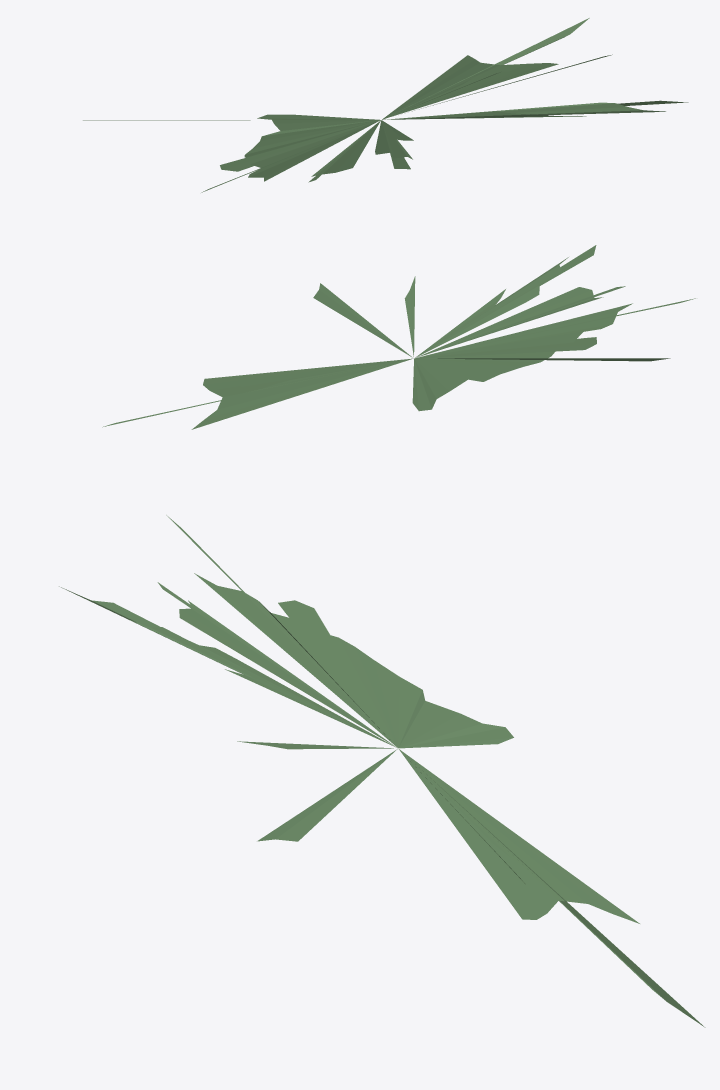
File: c_1668_17832_forest.glb
3 views of the same model, one above another, from view 1: azimuth 30°, elevation 25°; view 2: azimuth 150°, elevation 25°; view 3: azimuth 270°, elevation 25° (orthographic). The views are drawn at different scales.
Parts seen in each view (by area): view 1: geometry_0; view 2: geometry_0; view 3: geometry_0.
Part boxes in pixels (x1,y1,x2,y2): geometry_0: (83, 18, 688, 192); geometry_0: (102, 245, 695, 429); geometry_0: (59, 515, 705, 1027).
Bounding box in the file's own units: 834 × 191 × 580.
